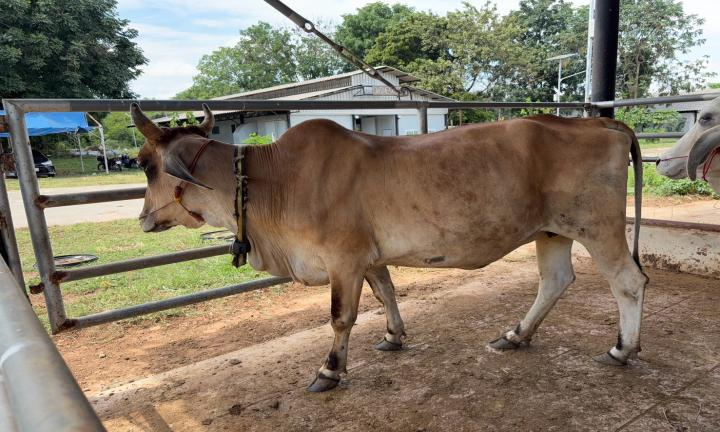Brahman: (131, 103, 646, 391)
